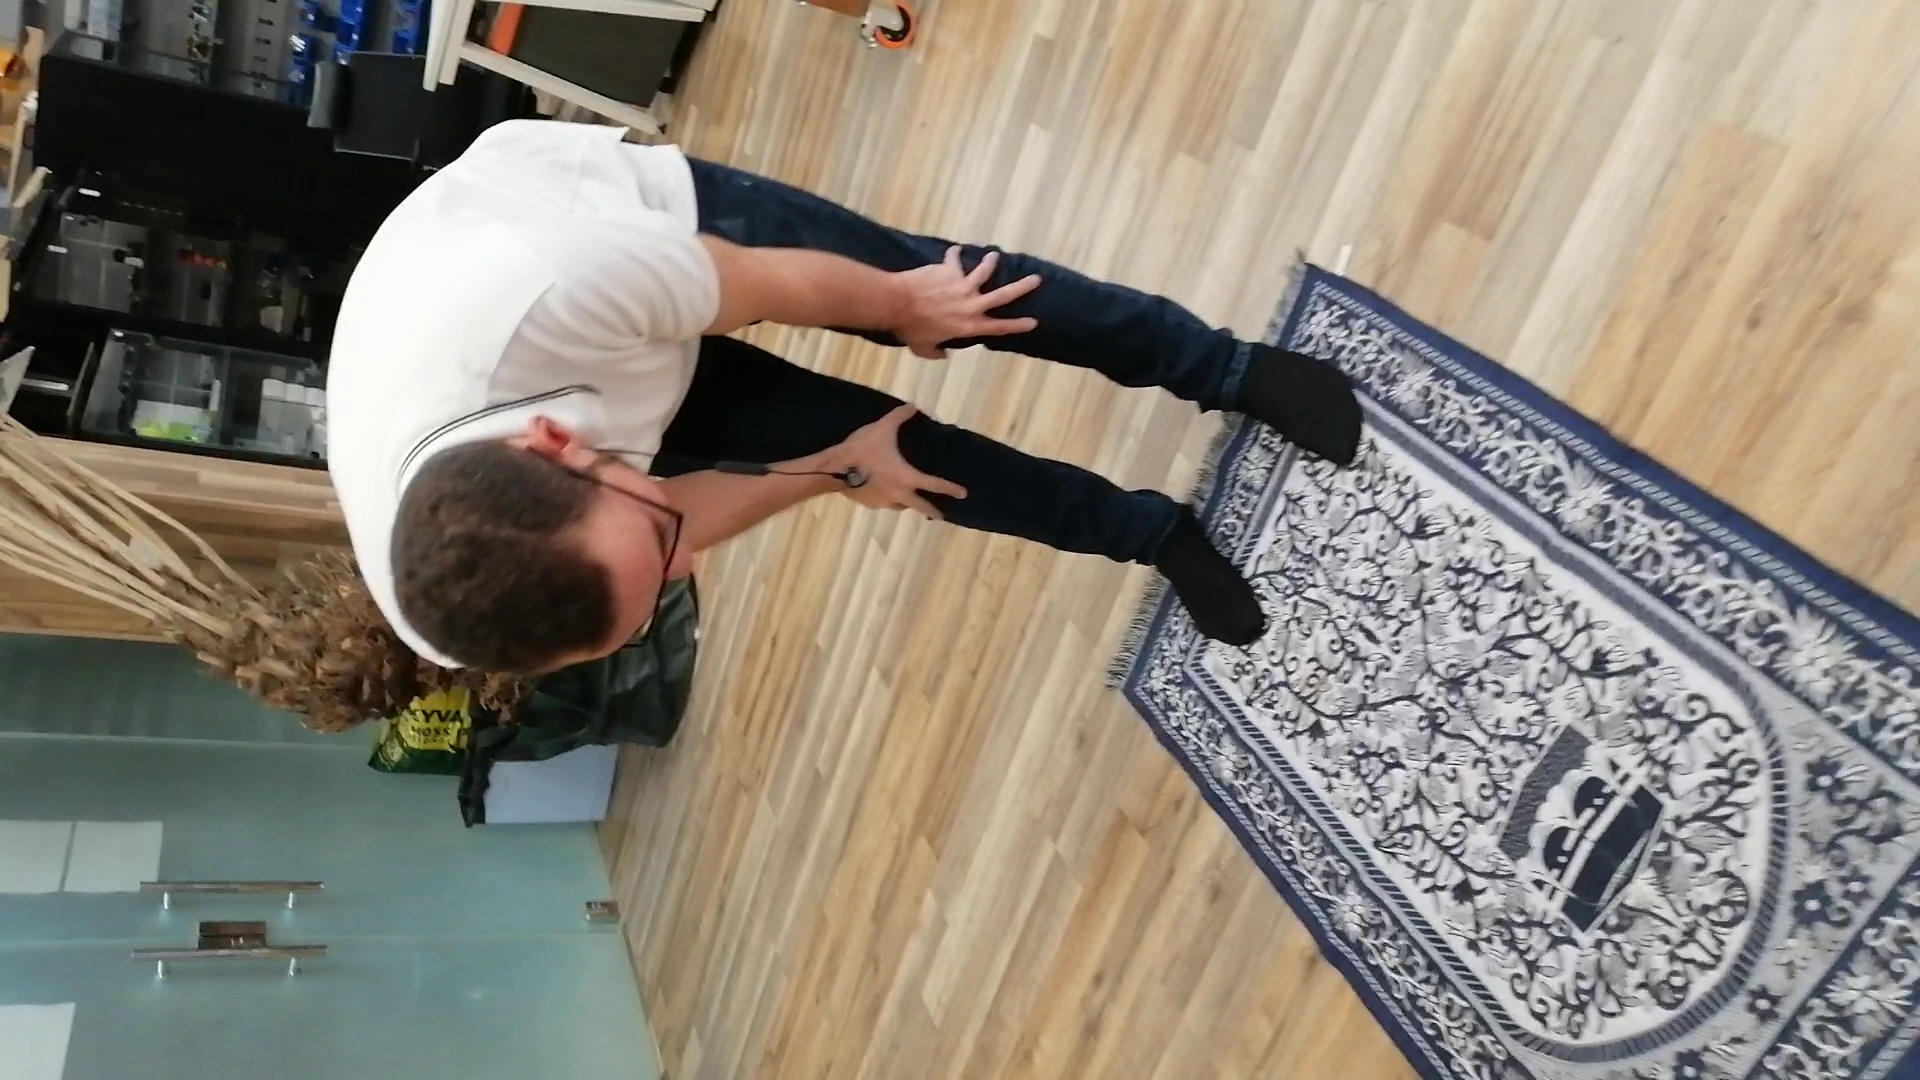ruku: (219, 160, 1578, 897)
